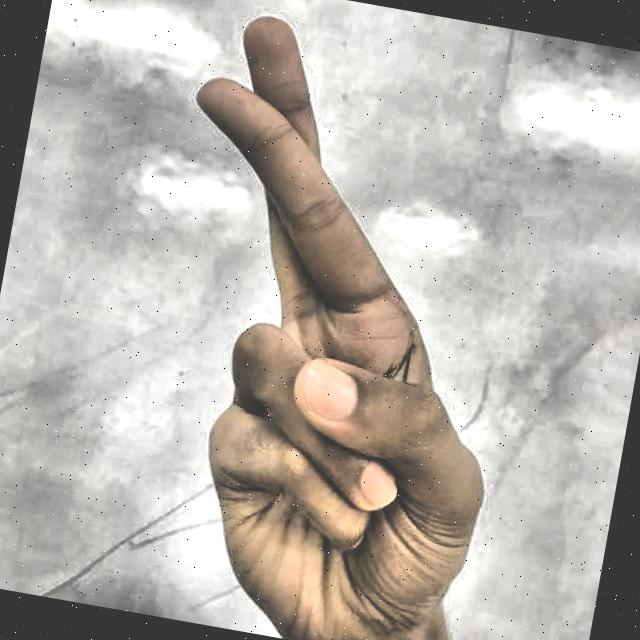Ra: (53, 0, 594, 640)
